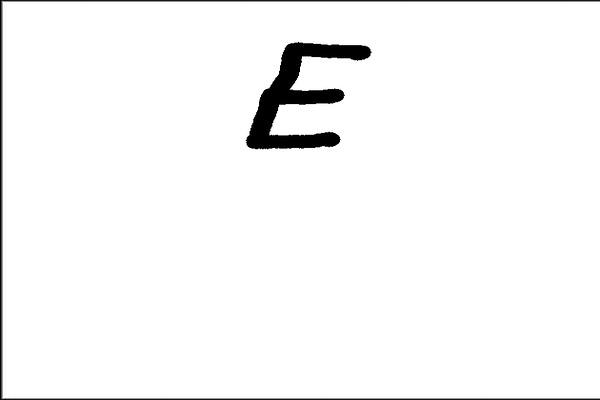E: (241, 35, 375, 153)
